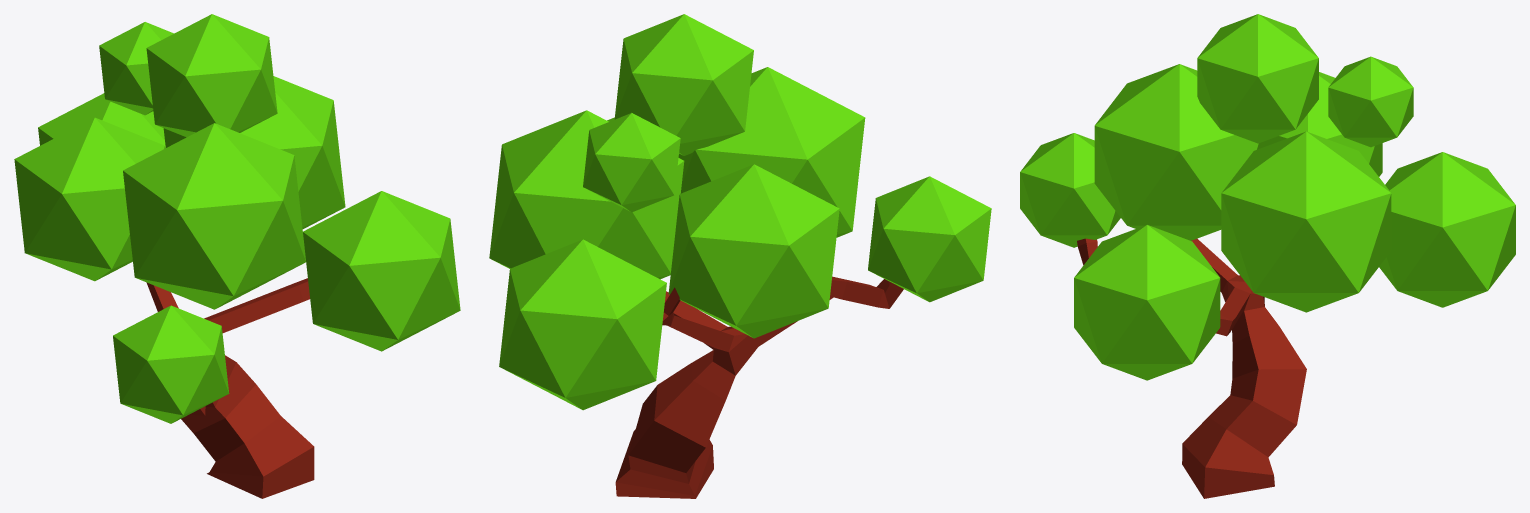
File: tree1.fbx
3 renders of one model, left to right at view 1: azimuth 30°, elevation 25°; view 2: azimuth 150°, elevation 25°; view 3: azimuth 270°, elevation 25°, orthographic. The views are drawn at different scales.
Parts seen in each view (by area): view 1: Icosphere.004, Icosphere.002, Icosphere.006, Cube, Icosphere.007, Icosphere.003, Icosphere.005, Icosphere.001, Icosphere; view 2: Icosphere.006, Icosphere, Icosphere.005, Cube, Icosphere.004, Icosphere.007, Icosphere.003, Icosphere.001; view 3: Icosphere.005, Icosphere.004, Icosphere.002, Cube, Icosphere, Icosphere.007, Icosphere.003, Icosphere.001, Icosphere.006.
Boxes of the visible parts, x1=… form: Icosphere.004: x1=123, y1=123, x2=305, y2=309; Icosphere.002: x1=303, y1=191, x2=460, y2=351; Icosphere.006: x1=14, y1=117, x2=165, y2=281; Cube: x1=146, y1=278, x2=314, y2=498; Icosphere.007: x1=146, y1=14, x2=277, y2=137; Icosphere.003: x1=113, y1=305, x2=229, y2=423; Icosphere.005: x1=163, y1=76, x2=345, y2=228; Icosphere.001: x1=99, y1=22, x2=173, y2=115; Icosphere: x1=38, y1=93, x2=165, y2=147; Icosphere.006: x1=668, y1=164, x2=839, y2=338; Icosphere: x1=499, y1=239, x2=666, y2=410; Icosphere.005: x1=489, y1=110, x2=684, y2=279; Cube: x1=615, y1=276, x2=903, y2=498; Icosphere.004: x1=678, y1=67, x2=865, y2=237; Icosphere.007: x1=614, y1=14, x2=753, y2=155; Icosphere.003: x1=868, y1=176, x2=991, y2=302; Icosphere.001: x1=583, y1=113, x2=680, y2=212; Icosphere.005: x1=1221, y1=131, x2=1391, y2=312; Icosphere.004: x1=1094, y1=64, x2=1264, y2=240; Icosphere.002: x1=1074, y1=225, x2=1220, y2=380; Cube: x1=1077, y1=238, x2=1306, y2=498; Icosphere: x1=1379, y1=152, x2=1515, y2=307; Icosphere.007: x1=1197, y1=14, x2=1318, y2=143; Icosphere.003: x1=1020, y1=133, x2=1120, y2=247; Icosphere.001: x1=1328, y1=56, x2=1413, y2=147; Icosphere.006: x1=1264, y1=72, x2=1382, y2=176.
Bounding box in the file's own units: 479 × 577 × 576.
